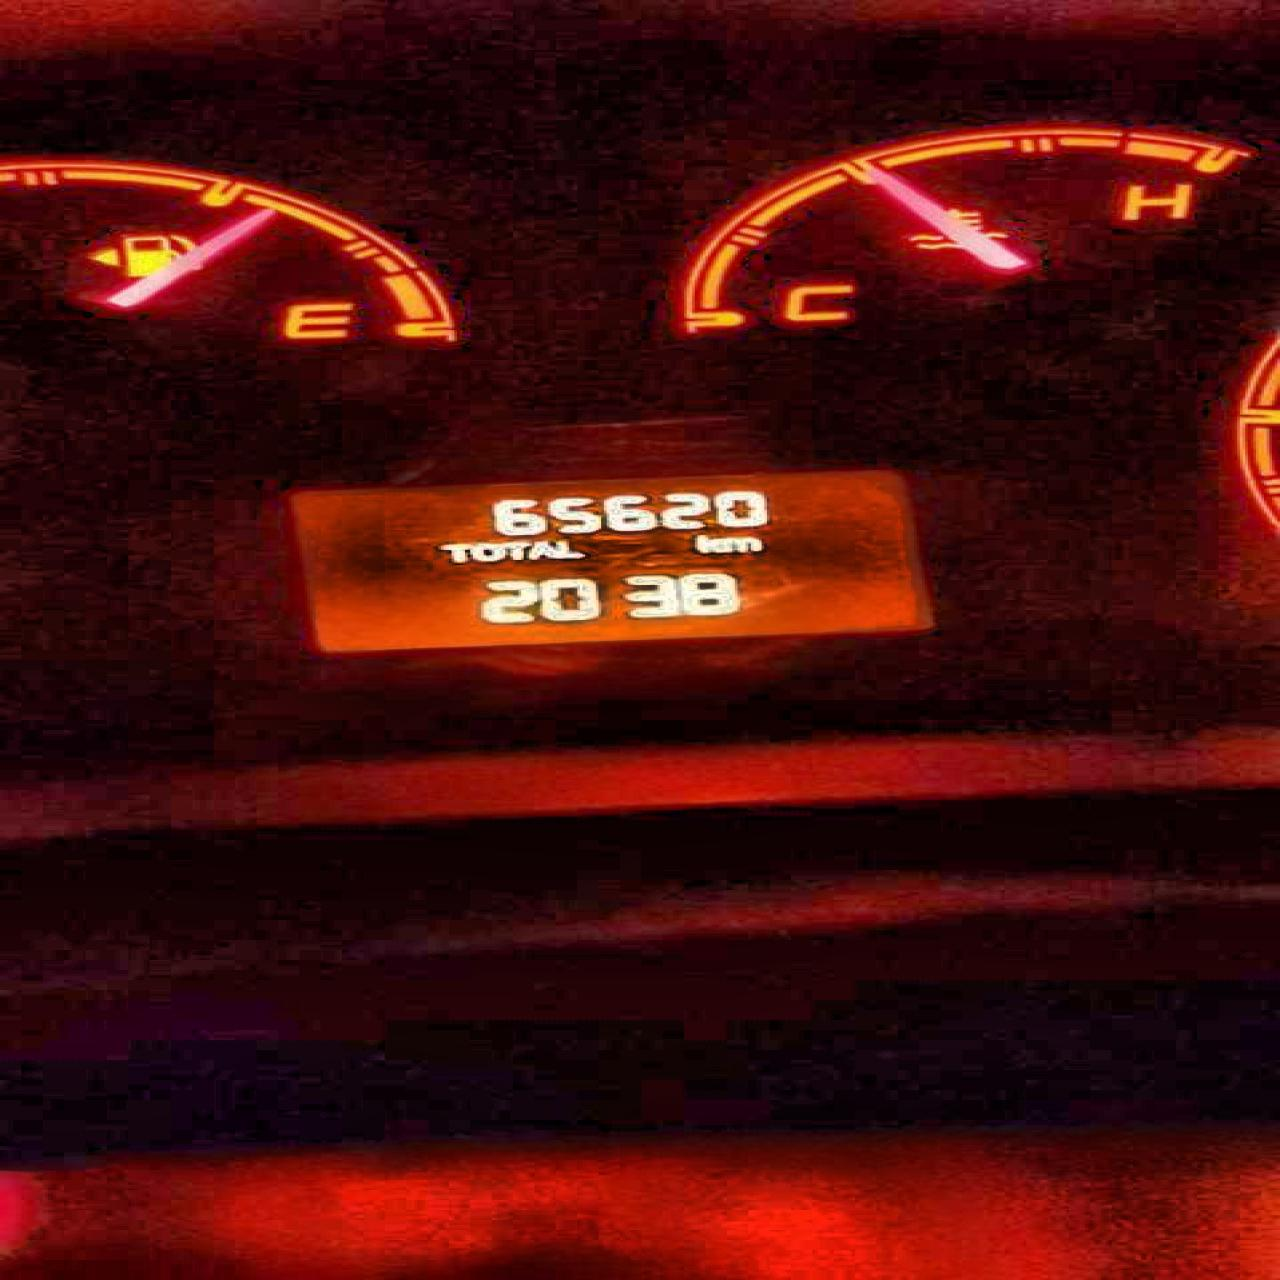0: (537, 576, 601, 620), (714, 489, 769, 525)
2: (472, 578, 535, 624), (658, 490, 710, 527)
3: (620, 572, 679, 618)
5: (547, 495, 599, 535)
6: (486, 497, 545, 535), (601, 493, 655, 530)
8: (676, 572, 743, 617)
X: (719, 535, 764, 554), (434, 539, 468, 565), (547, 539, 585, 559), (468, 540, 502, 561), (693, 533, 719, 556), (503, 539, 526, 561), (526, 540, 551, 560)
odometer: (261, 457, 959, 667)
